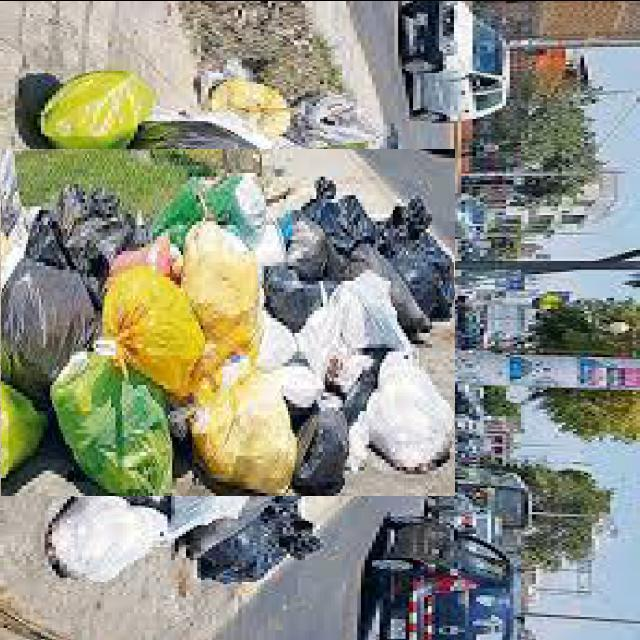Trashbag: (0, 256, 110, 394), (212, 502, 342, 588), (28, 175, 140, 262), (382, 199, 456, 324), (296, 176, 378, 252), (262, 256, 337, 336), (289, 410, 350, 495)
